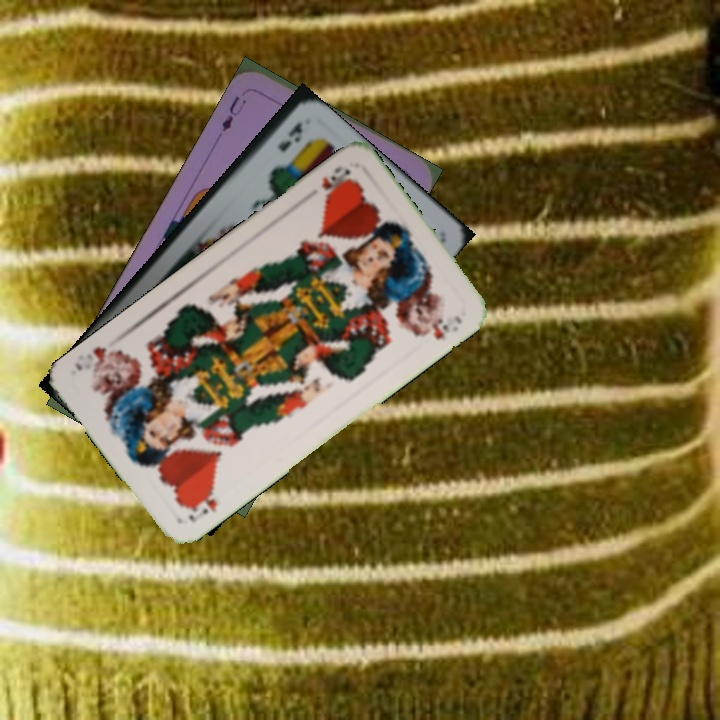EK: (273, 117, 305, 155)
EU: (217, 92, 250, 135)
HO: (317, 161, 355, 204), (183, 484, 220, 526)
